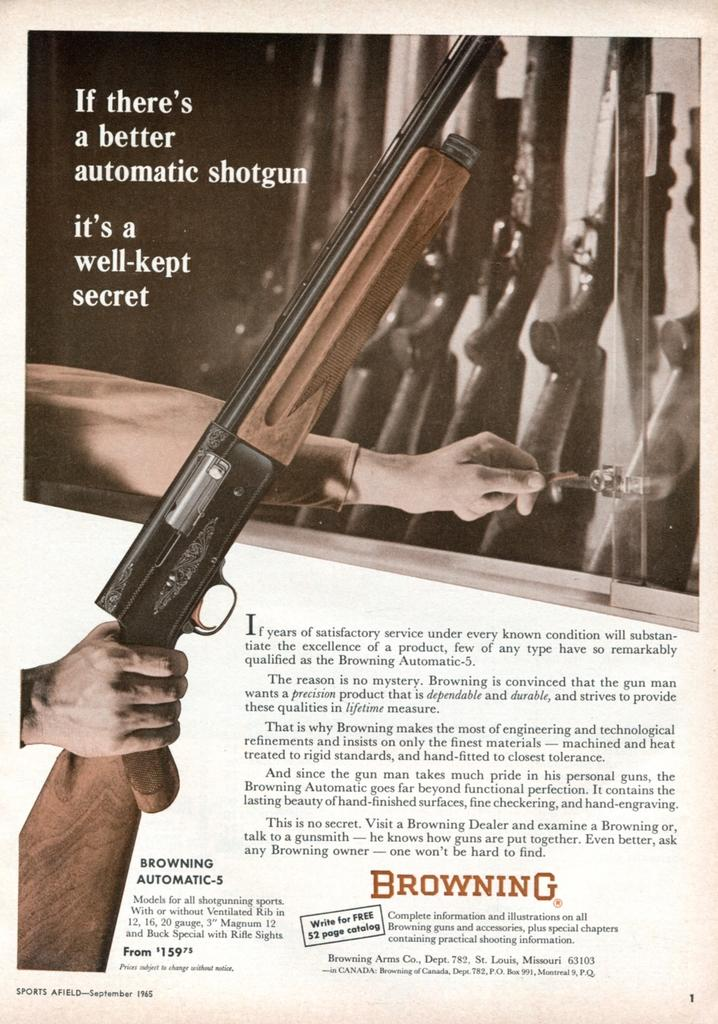Shotgun: (8, 32, 496, 966), (238, 29, 698, 588)
